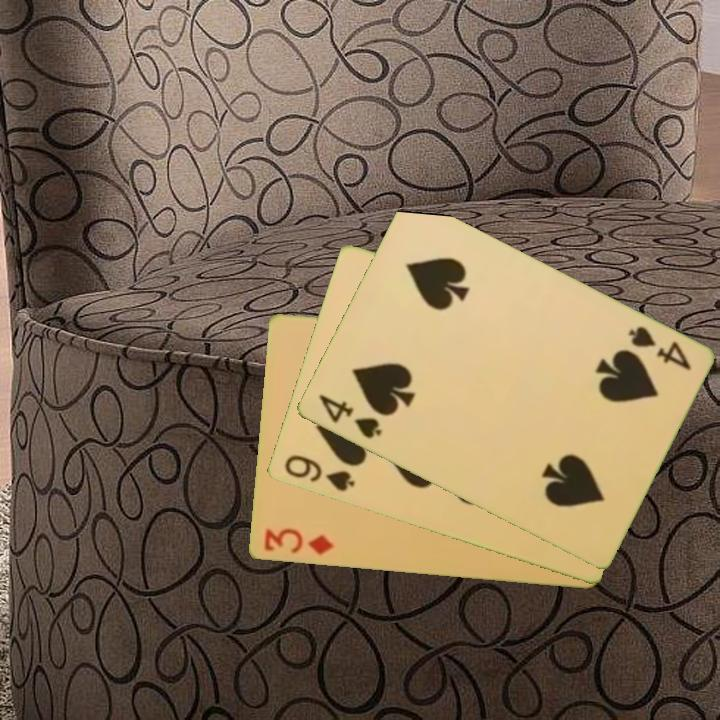3d: (260, 525, 336, 559)
4s: (314, 390, 384, 442), (623, 322, 693, 374)
9s: (280, 451, 357, 495)
